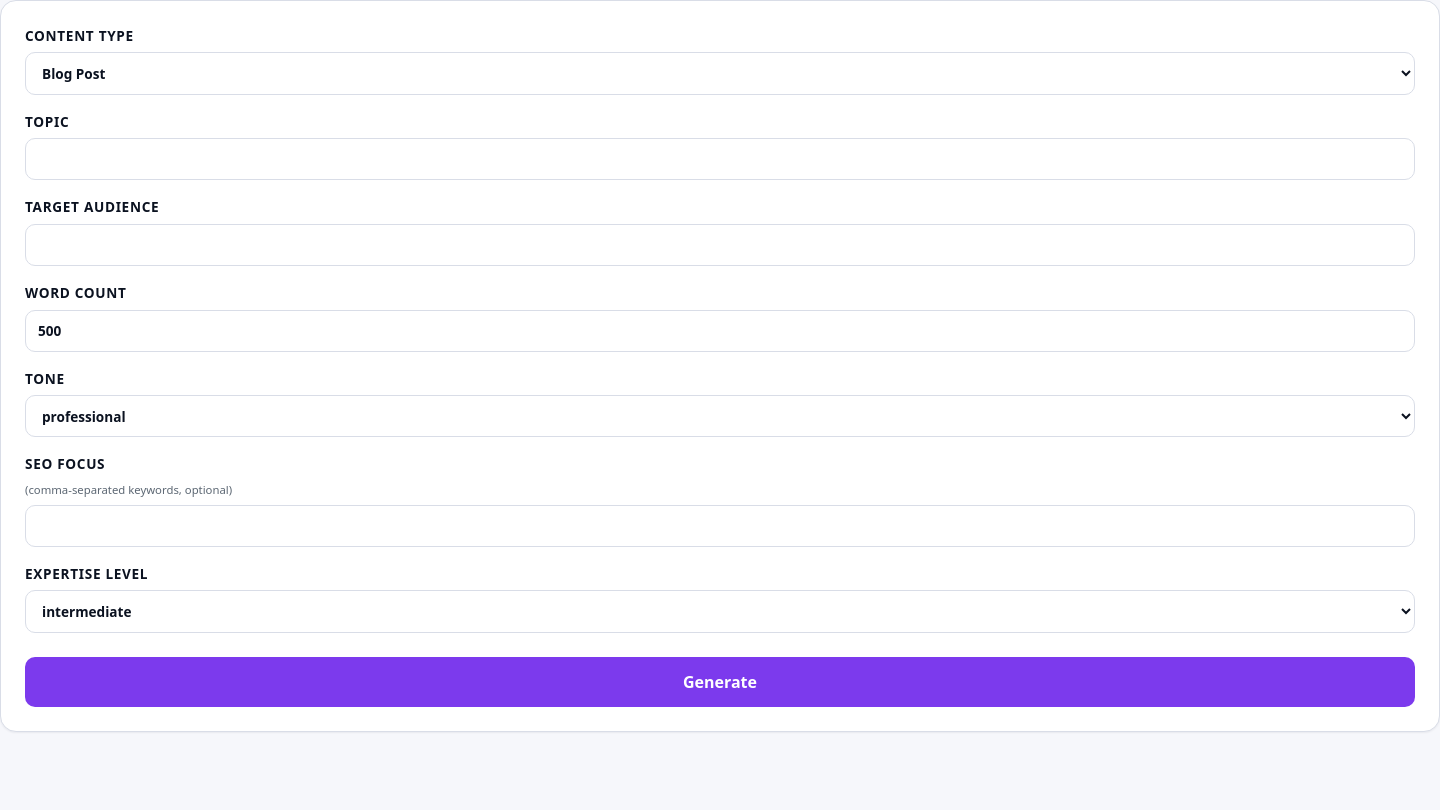
Test: ContentForm › swaps fields when content type changes to story
Select "Story" in the dropdown labelled "Content Type": (720, 74) left=25, top=52, right=1415, bottom=95
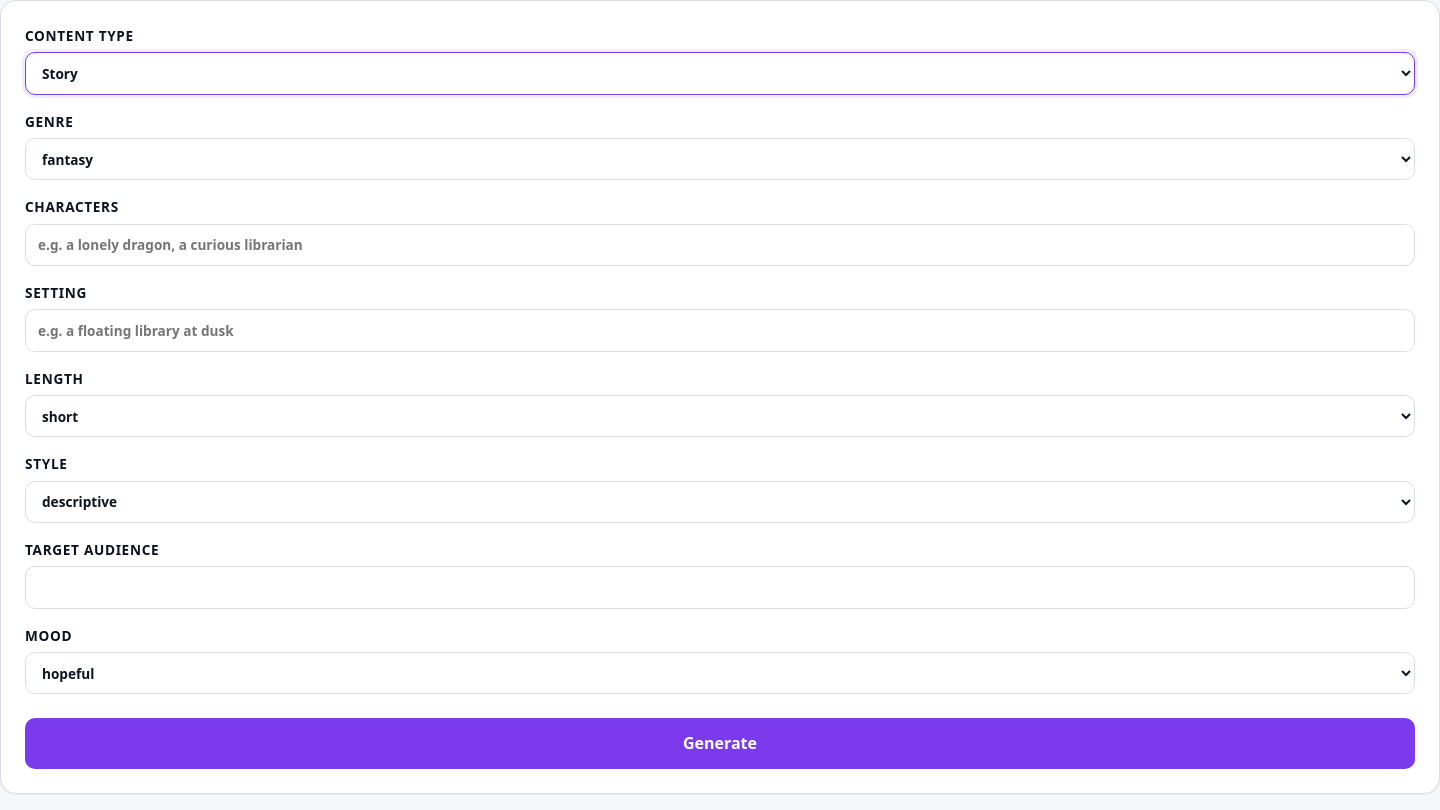
Expected: the dropdown labelled "Genre" is shown, left=25, top=138, right=1415, bottom=180
Now the label labelled "Word Count" is gone
